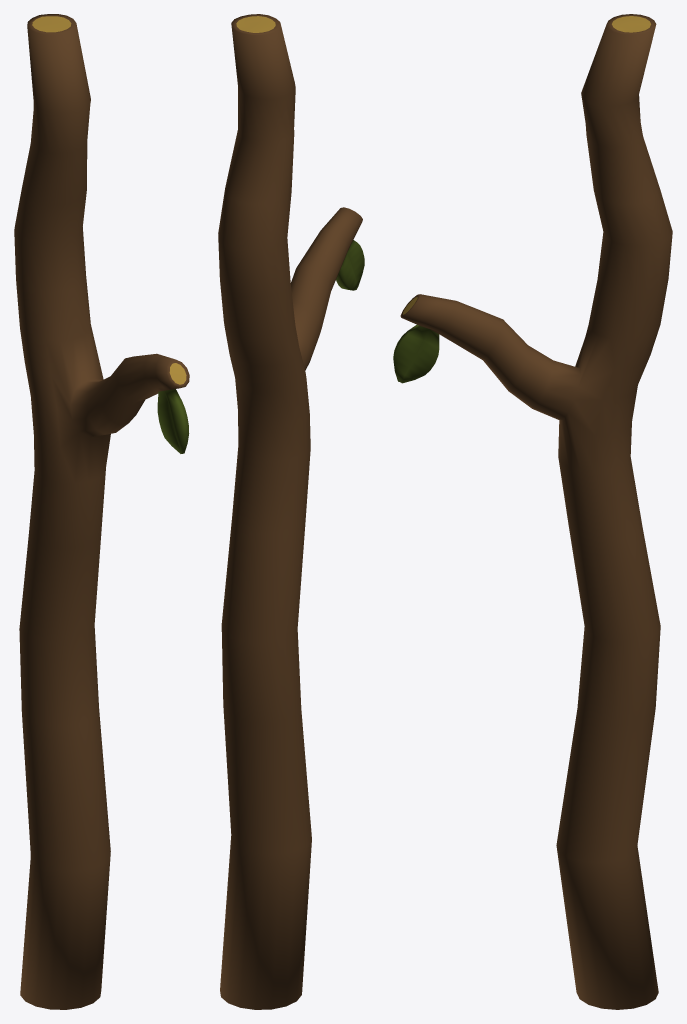
Rendered from stick.fbx.
3 views of the same model, side by side, from view 1: azimuth 30°, elevation 25°; view 2: azimuth 150°, elevation 25°; view 3: azimuth 270°, elevation 25° (orthographic).
Parts seen in each view (by area): view 1: Plane; view 2: Plane; view 3: Plane.
Part boxes in pixels (left/top/right/bottom): Plane: left=14, top=14, right=189, bottom=1009; Plane: left=218, top=14, right=364, bottom=1009; Plane: left=393, top=14, right=672, bottom=1009.
Bounding box in the file's own units: 23.5 × 305 × 79.95.
